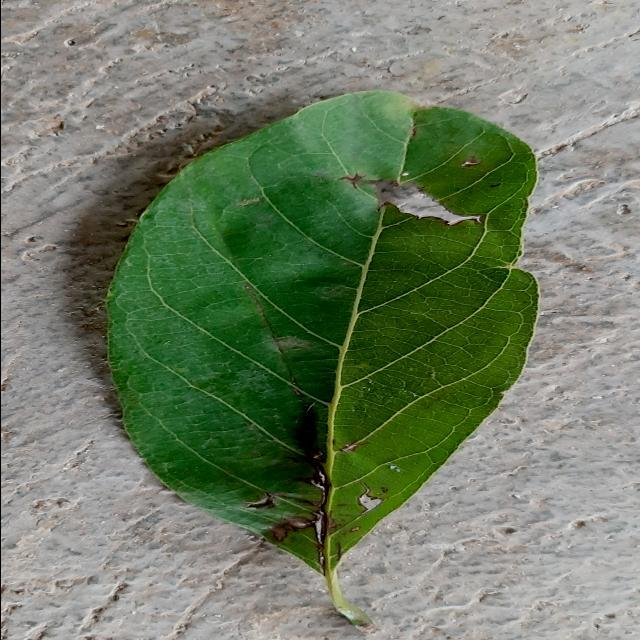leaf: (104, 88, 541, 629)
